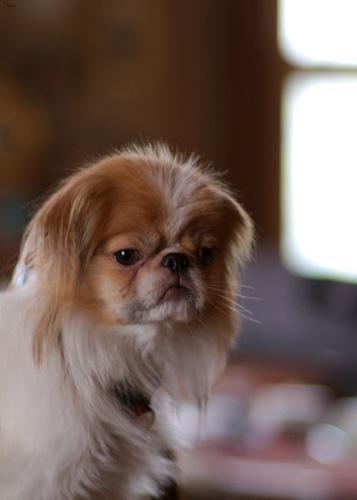dog-japanese_chin: (29, 151, 241, 322)
